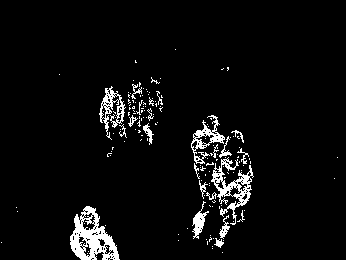person: (215, 129, 253, 249), (193, 114, 228, 241), (70, 204, 119, 260), (129, 80, 164, 146), (99, 86, 126, 157)
